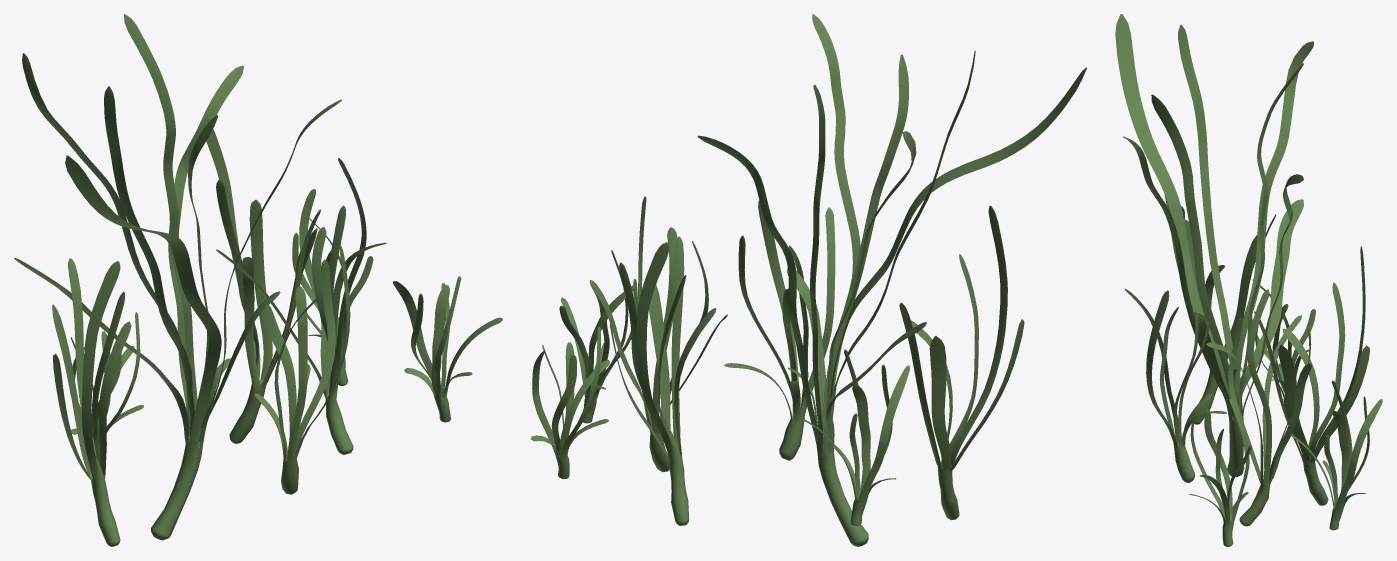
The model's file is seagrass1.glb.
3 views of the same model, side by side, from view 1: azimuth 30°, elevation 25°; view 2: azimuth 150°, elevation 25°; view 3: azimuth 270°, elevation 25° (orthographic). The views are drawn at different scales.
Visible parts, largest first — view 1: SM_SeaGrass_02; view 2: SM_SeaGrass_02; view 3: SM_SeaGrass_02.
Boxes of the visible parts, left/top/right/bottom form: SM_SeaGrass_02: left=14, top=14, right=502, bottom=546; SM_SeaGrass_02: left=531, top=14, right=1086, bottom=546; SM_SeaGrass_02: left=1115, top=14, right=1382, bottom=546.
Bounding box in the file's own units: 1.16 × 1.14 × 0.6644.
